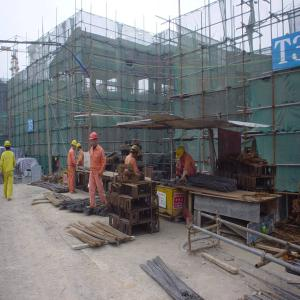red: (91, 133, 99, 148)
yellow: (130, 146, 140, 159), (177, 147, 185, 160), (5, 141, 11, 152), (72, 141, 78, 151), (77, 144, 82, 152), (56, 158, 58, 162)
